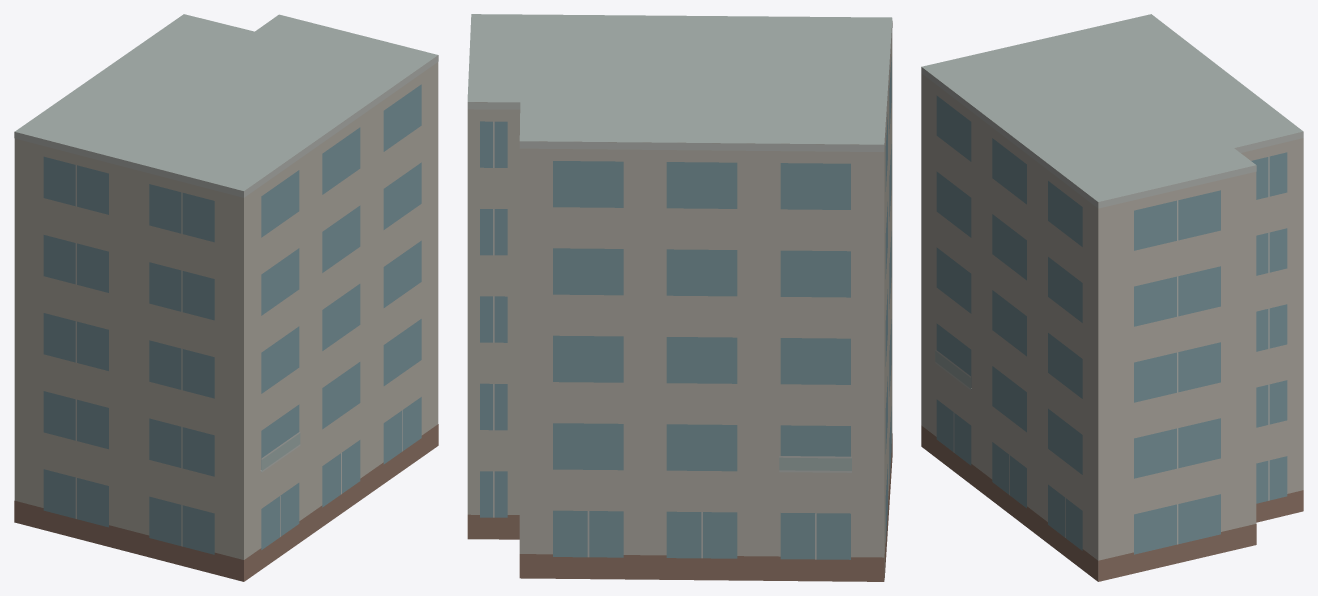
File: survey-upis-32638741.glb
3 views of the same model, side by side, from view 1: azimuth 30°, elevation 25°; view 2: azimuth 150°, elevation 25°; view 3: azimuth 270°, elevation 25° (orthographic). The views are drawn at different scales.
Parts seen in each view (by area): view 1: survey-upis-32638741.tmp; view 2: survey-upis-32638741.tmp; view 3: survey-upis-32638741.tmp.
Boxes of the visible parts, x1,y1,x2,y2 form: survey-upis-32638741.tmp: (14, 14, 438, 581); survey-upis-32638741.tmp: (467, 14, 892, 581); survey-upis-32638741.tmp: (921, 14, 1303, 581).
Bounding box in the file's own units: 15.2 × 14.3 × 13.05.
